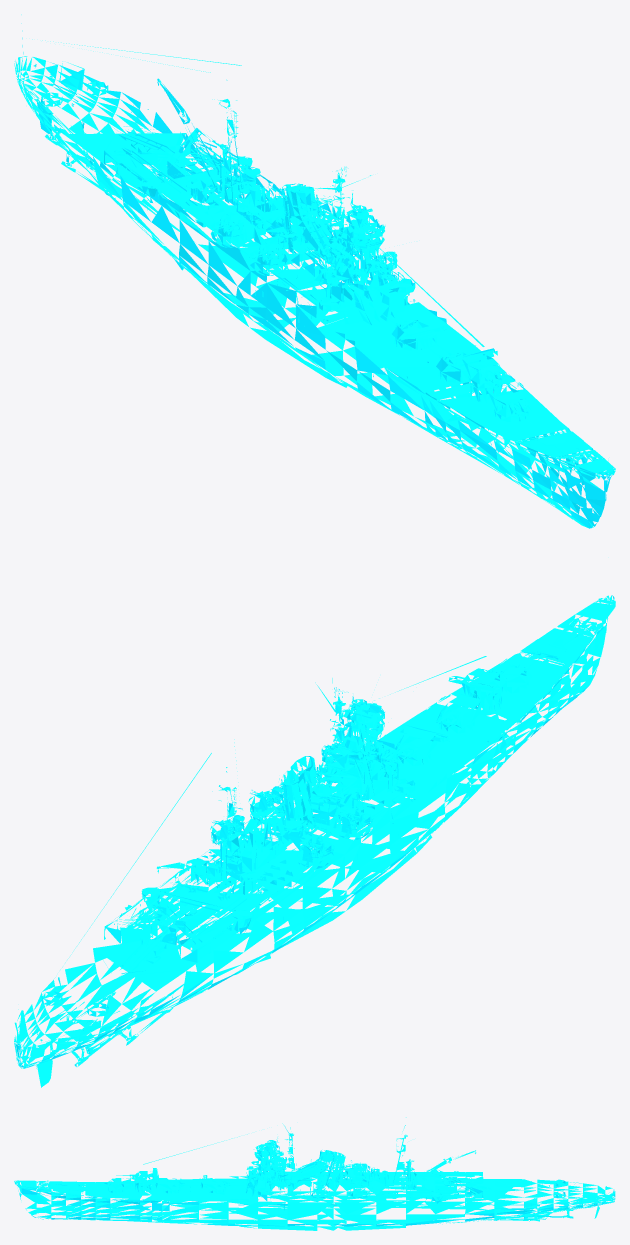
File: PJSC729.glb
The picture shows the model from 3 angles, top to bottom: view 1: azimuth 30°, elevation 25°; view 2: azimuth 150°, elevation 25°; view 3: azimuth 270°, elevation 25°; orthographic projection. The views are drawn at different scales.
Visible parts, largest first — view 1: hull_mid, hull_bow, hull_stern, main_battery, superstructure, hull_body; view 2: hull_mid, hull_bow, hull_stern, main_battery, hull_body, secondary_battery, superstructure; view 3: hull_mid, hull_bow, hull_stern, main_battery, torpedo, hull_body, superstructure.
Part boxes in pixels (x1,y1,x2,y2): hull_mid: [43, 78, 506, 442]; hull_bow: [323, 195, 615, 528]; hull_stern: [14, 14, 241, 164]; main_battery: [380, 310, 542, 423]; superstructure: [233, 113, 397, 278]; hull_body: [218, 200, 350, 266]; hull_mid: [42, 678, 506, 1054]; hull_bow: [390, 595, 615, 778]; hull_stern: [14, 753, 211, 1087]; main_battery: [392, 654, 542, 761]; hull_body: [219, 786, 363, 862]; secondary_battery: [212, 792, 372, 859]; superstructure: [233, 687, 397, 812]; hull_mid: [162, 1117, 553, 1230]; hull_bow: [14, 1134, 247, 1222]; hull_stern: [533, 1179, 615, 1218]; main_battery: [90, 1168, 243, 1190]; torpedo: [382, 1177, 469, 1198]; hull_body: [313, 1163, 366, 1194]; superstructure: [264, 1127, 398, 1180].
Bounding box in the file's own units: 1.6 × 2.53 × 13.45.
